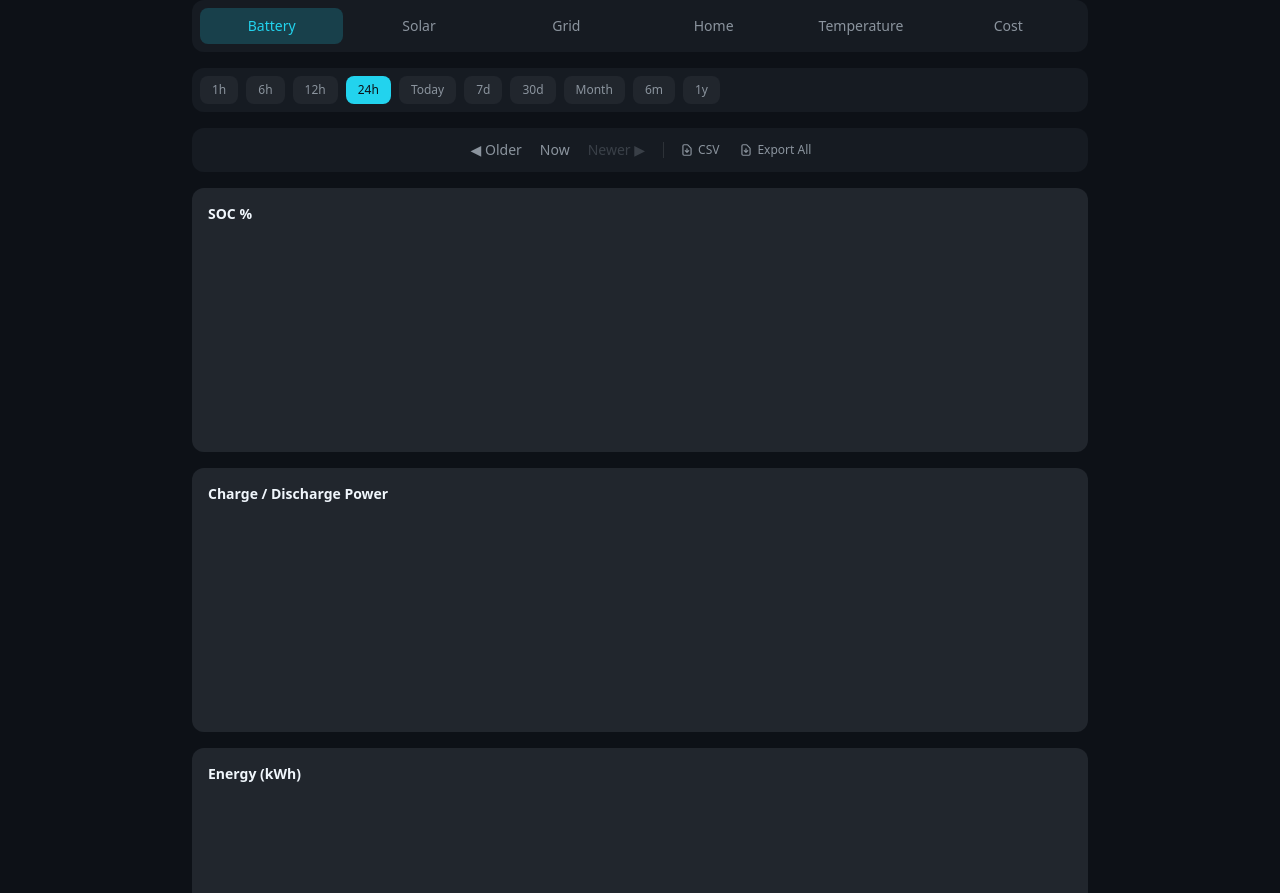
it: <HistoryPage/> — summary request ordering › keeps the newest historical offset summary when responses resolve in reverse
Click the button "◀ Older" at x=496, y=150, box x1=461 y1=134 x2=532 y2=166
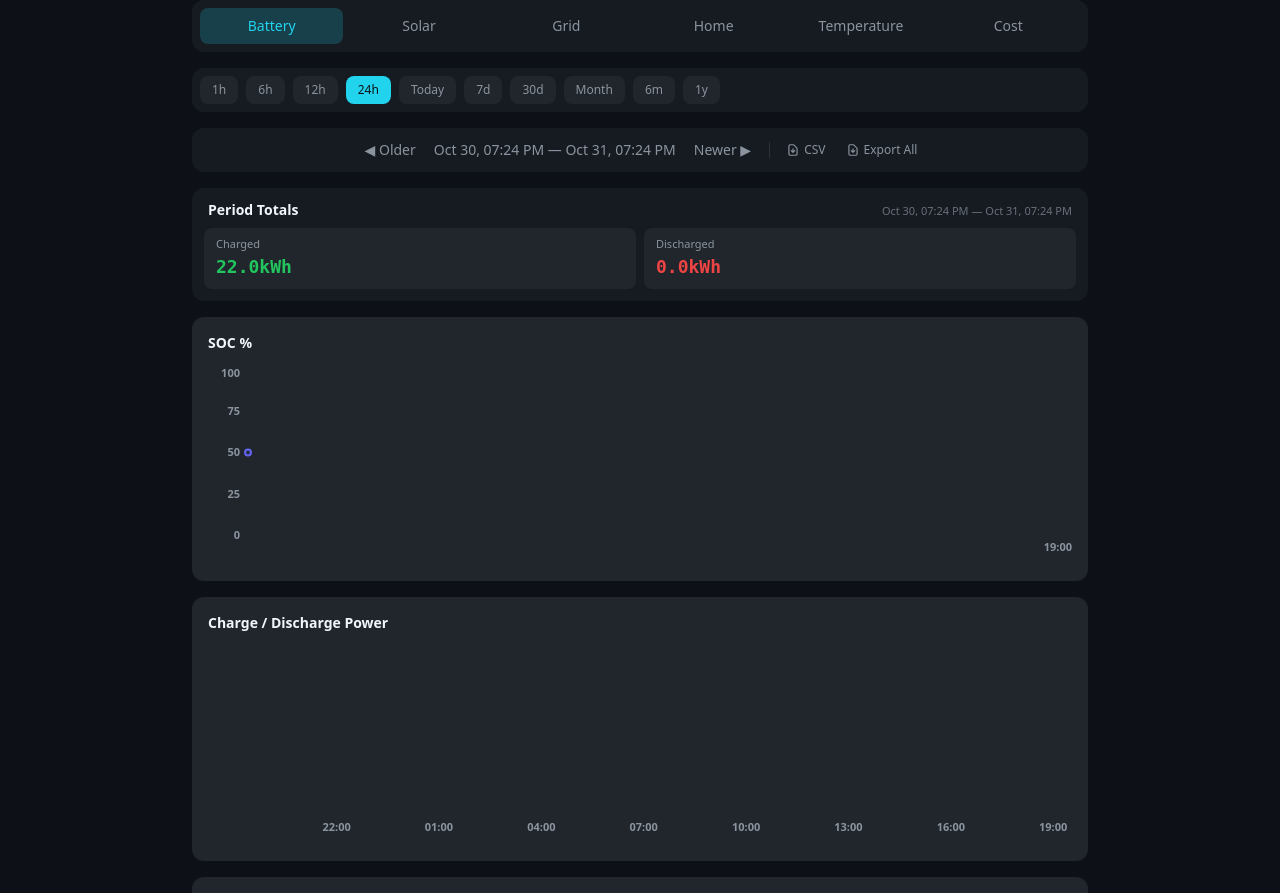
Now the text "22.0kWh" is shown, box x1=216 y1=256 x2=292 y2=276
